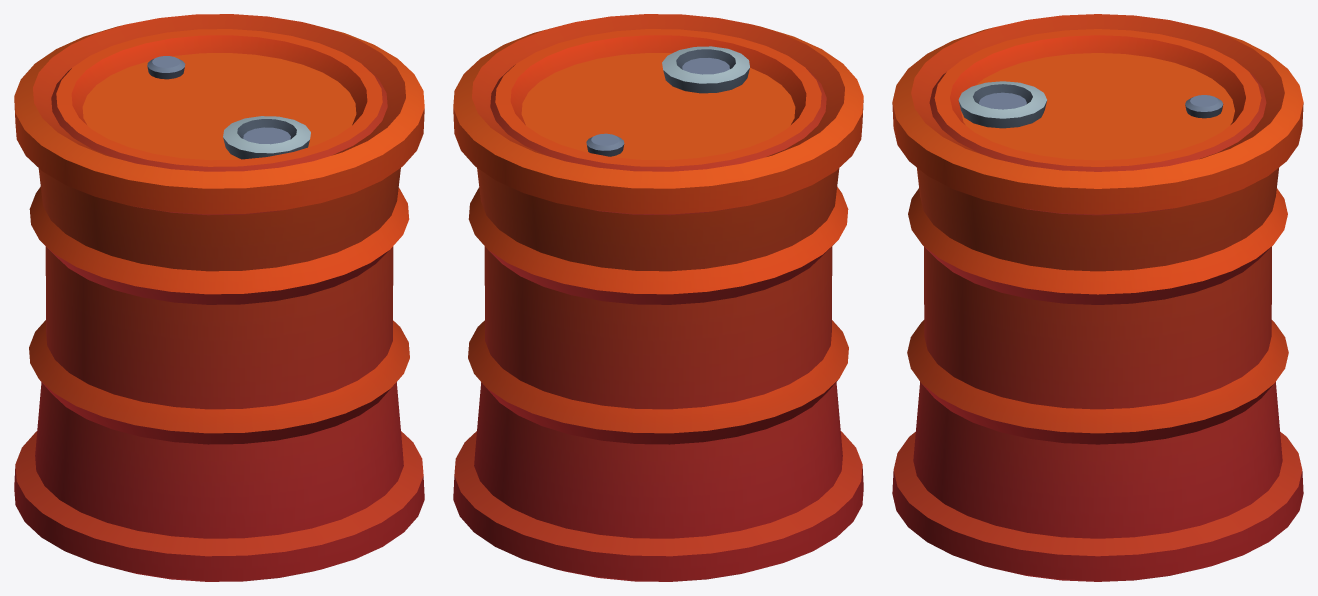
File: fuel_c.fbx
3 views of the same model, side by side, from view 1: azimuth 30°, elevation 25°; view 2: azimuth 150°, elevation 25°; view 3: azimuth 270°, elevation 25° (orthographic).
Parts seen in each view (by area): view 1: fuel_tank3; view 2: fuel_tank3; view 3: fuel_tank3.
Boxes of the visible parts, bbox=[...] form: fuel_tank3: bbox=[14, 14, 424, 581]; fuel_tank3: bbox=[453, 14, 863, 581]; fuel_tank3: bbox=[892, 14, 1303, 581].
Size of the model in its own units: 72.79 by 80.08 by 72.79.
